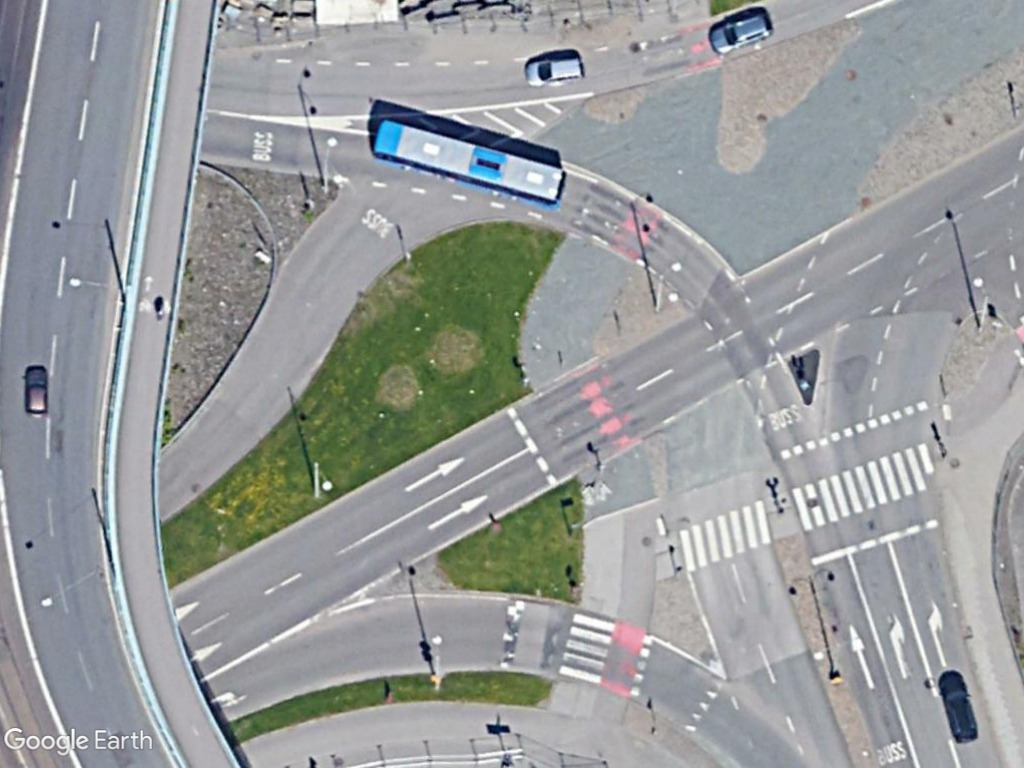bus: (368, 114, 573, 210)
car: (703, 9, 775, 62), (935, 668, 982, 747), (519, 49, 589, 89), (18, 362, 55, 423)
